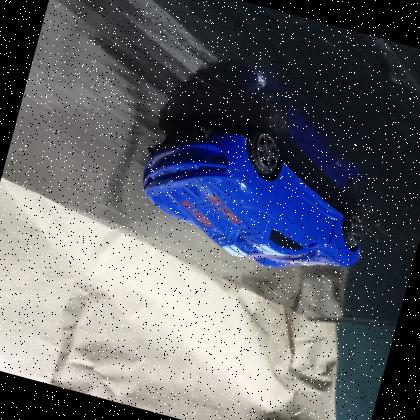Car: (118, 98, 392, 296)
